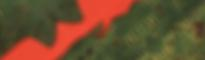Tomato Septoria leaf spot: (74, 4, 192, 60), (13, 0, 114, 36)
